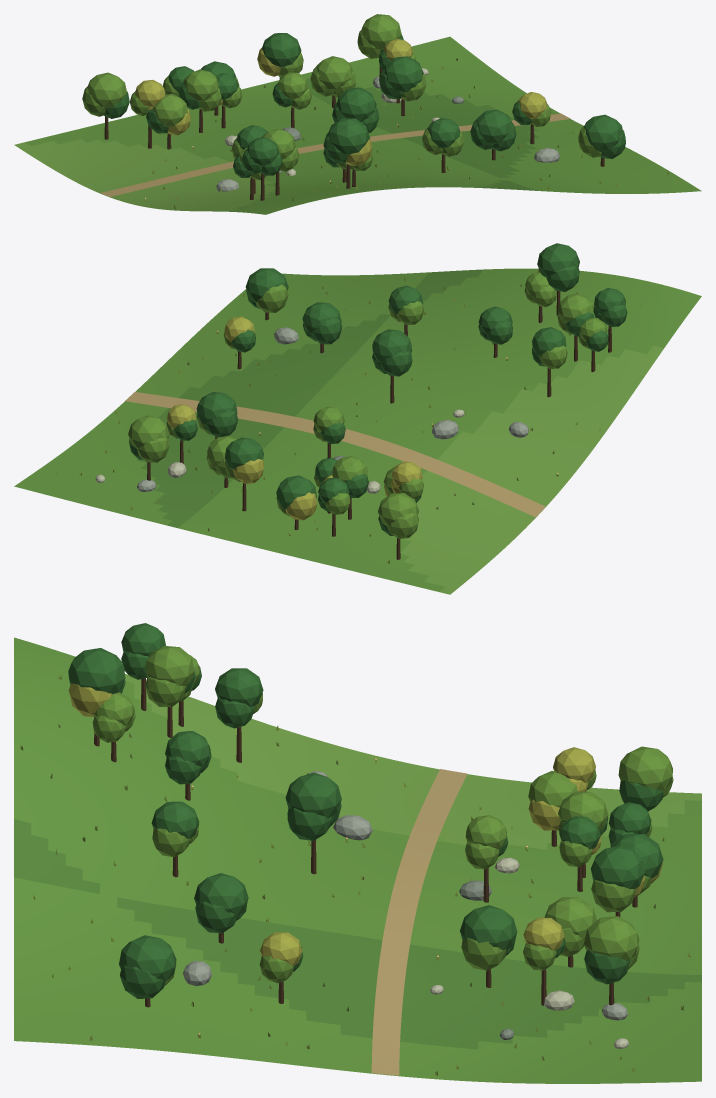
Rendered from Chunk_X3_Y0_Z-1.fbx.
3 views of the same model, one above another, from view 1: azimuth 30°, elevation 25°; view 2: azimuth 150°, elevation 25°; view 3: azimuth 270°, elevation 25° (orthographic). The views are drawn at different scales.
Visible parts, largest first — view 1: Terrain.044, Canopies.043, Path.006, Trunks.043, Rocks.044, GroundCover.044; view 2: Terrain.044, Canopies.043, Path.006, Rocks.044, Trunks.043; view 3: Terrain.044, Canopies.043, Path.006, Rocks.044, Trunks.043, GroundCover.044.
Boxes of the visible parts, bbox=[...] form: Terrain.044: bbox=[14, 36, 701, 214]; Canopies.043: bbox=[82, 14, 625, 179]; Path.006: bbox=[100, 113, 570, 196]; Trunks.043: bbox=[104, 66, 604, 200]; Rocks.044: bbox=[216, 68, 559, 191]; GroundCover.044: bbox=[102, 58, 668, 208]; Terrain.044: bbox=[14, 268, 701, 594]; Canopies.043: bbox=[128, 243, 627, 538]; Path.006: bbox=[125, 392, 545, 517]; Rocks.044: bbox=[95, 327, 528, 493]; Trunks.043: bbox=[147, 291, 611, 559]; Terrain.044: bbox=[14, 637, 701, 1083]; Canopies.043: bbox=[68, 623, 673, 998]; Path.006: bbox=[371, 769, 467, 1075]; Rocks.044: bbox=[183, 771, 628, 1048]; Trunks.043: bbox=[94, 678, 648, 1007]; GroundCover.044: bbox=[20, 675, 690, 1075].
Size of the model in its own units: 100 by 35.6 by 100.
